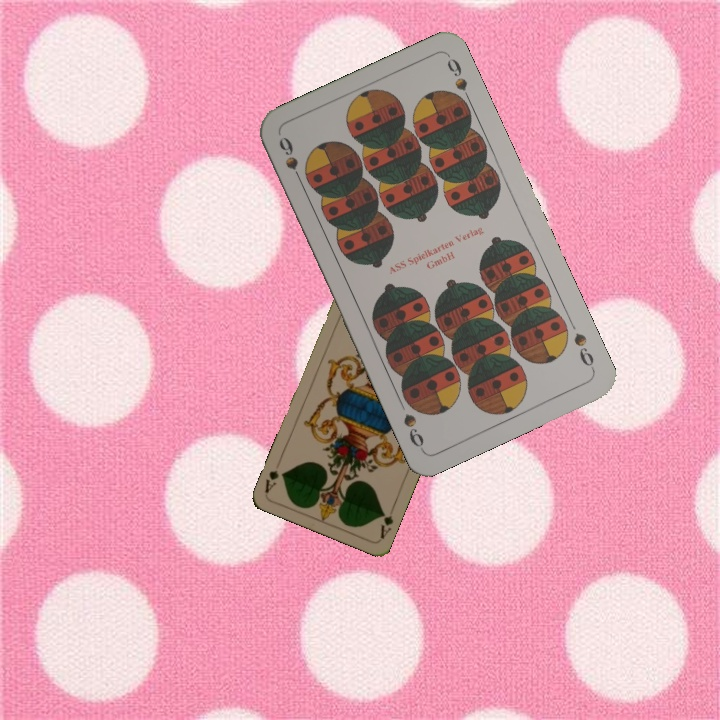GA: (376, 502, 397, 542)
S9: (274, 132, 311, 188), (570, 328, 597, 374)
